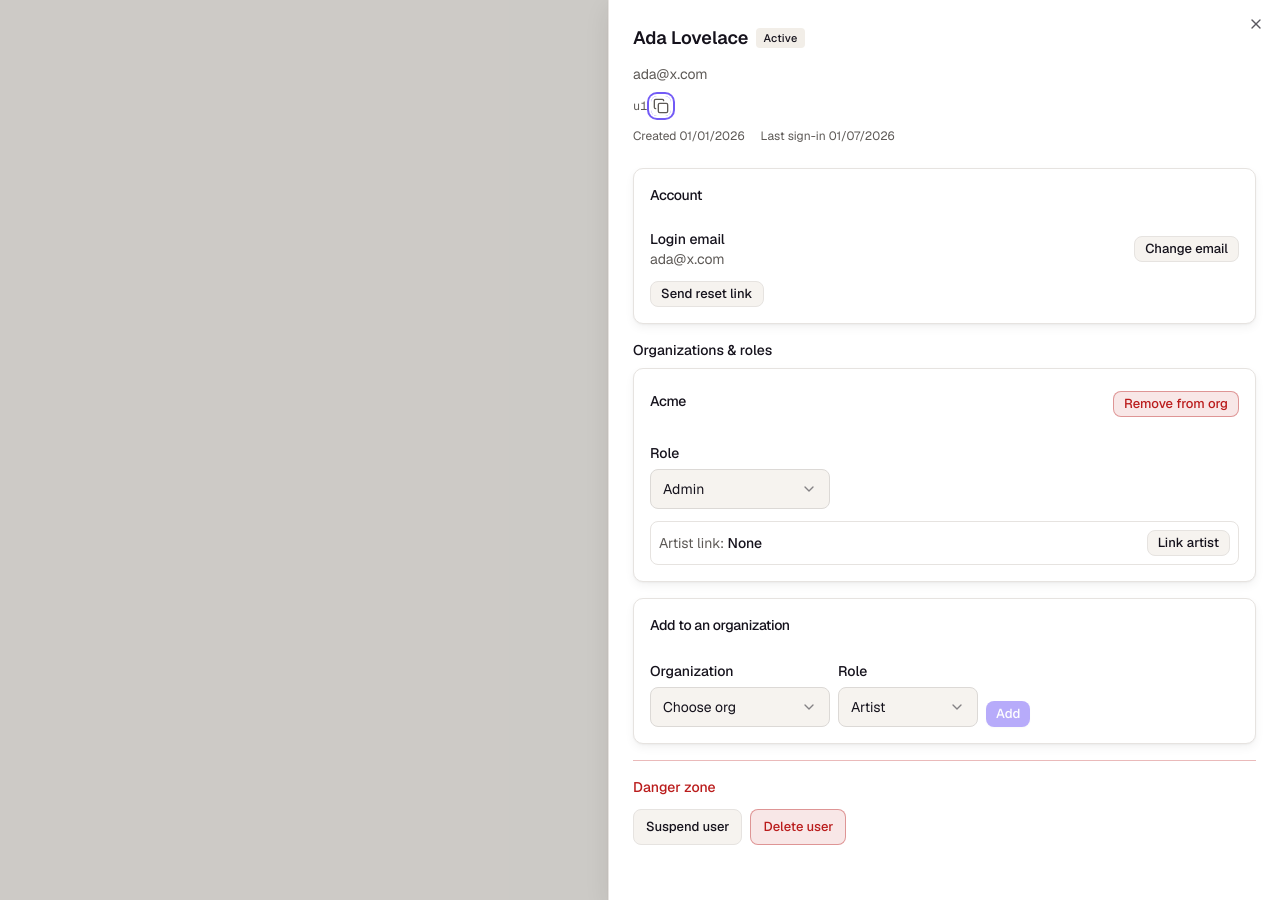
Test case: UserDetailSheet › reflects the newly linked artist once the cache refetches (drawer is not stale)
The image size is (1280, 900).
Expected: the text "None" is shown, [728,534,762,552]
Click the button "Link artist" at (1188, 543), box [1147,530,1230,556]
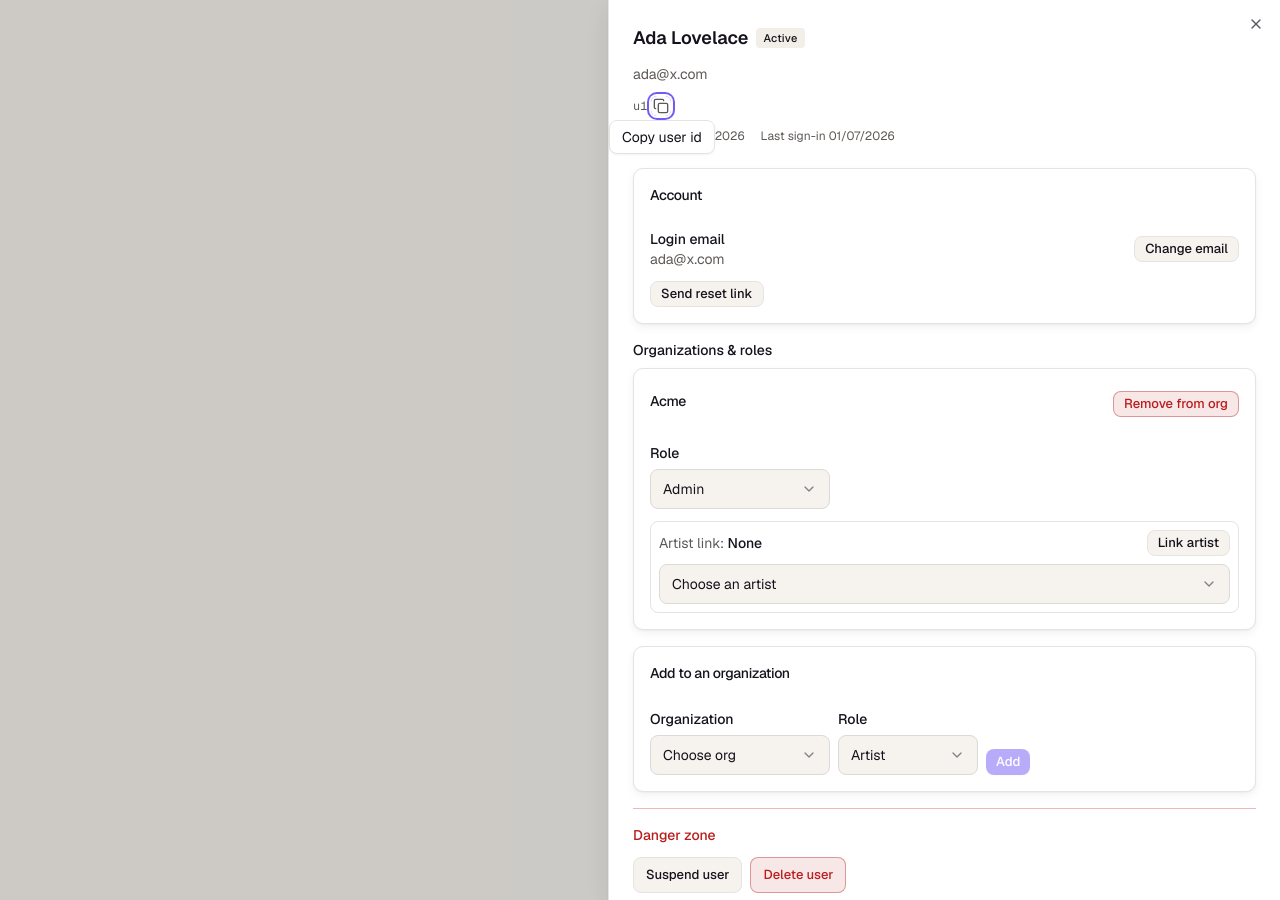
Click the dropdown named "Artist for Acme" at (724, 584), box [659,564,1230,604]
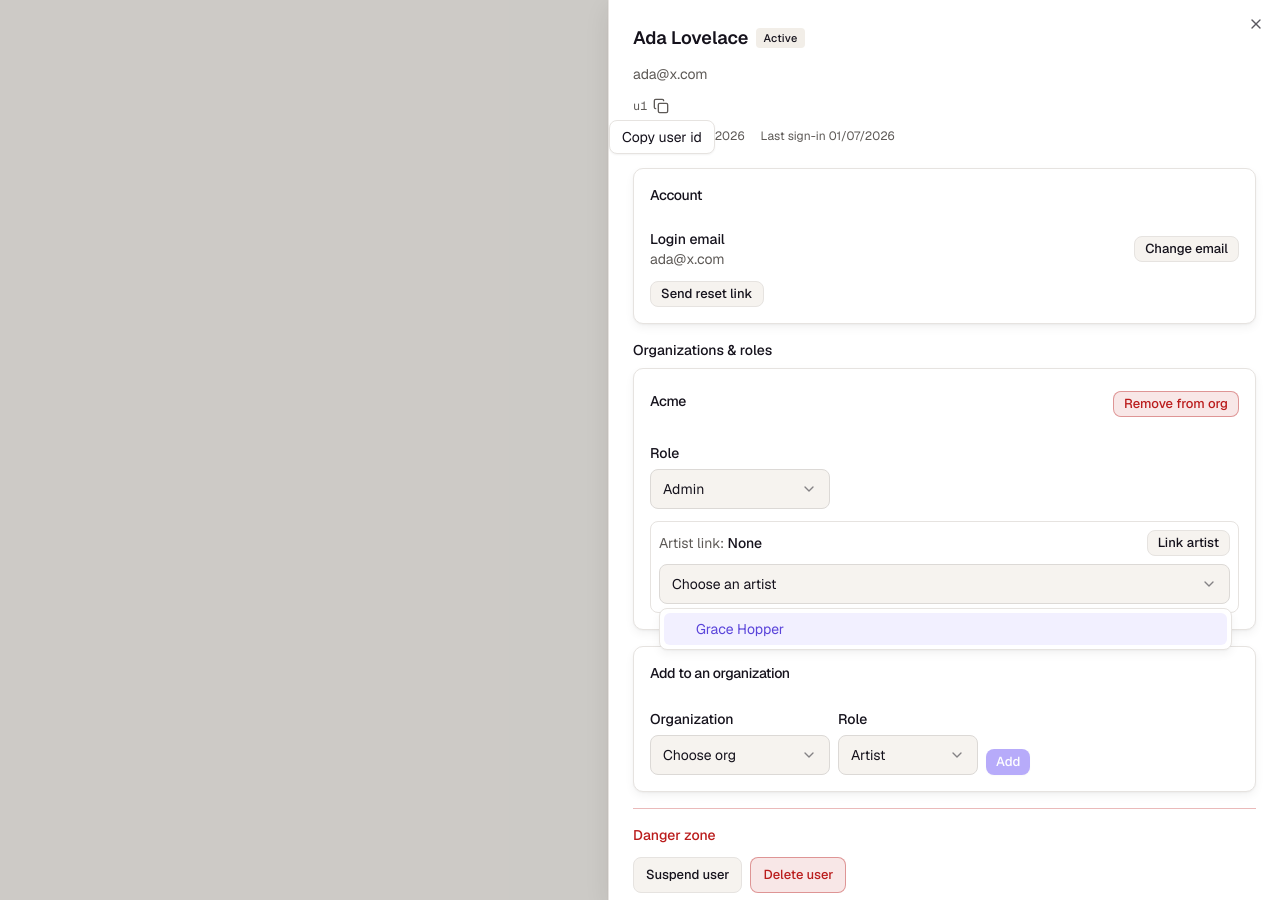
Click the option "Grace Hopper" at (740, 629), box [664,613,1227,645]
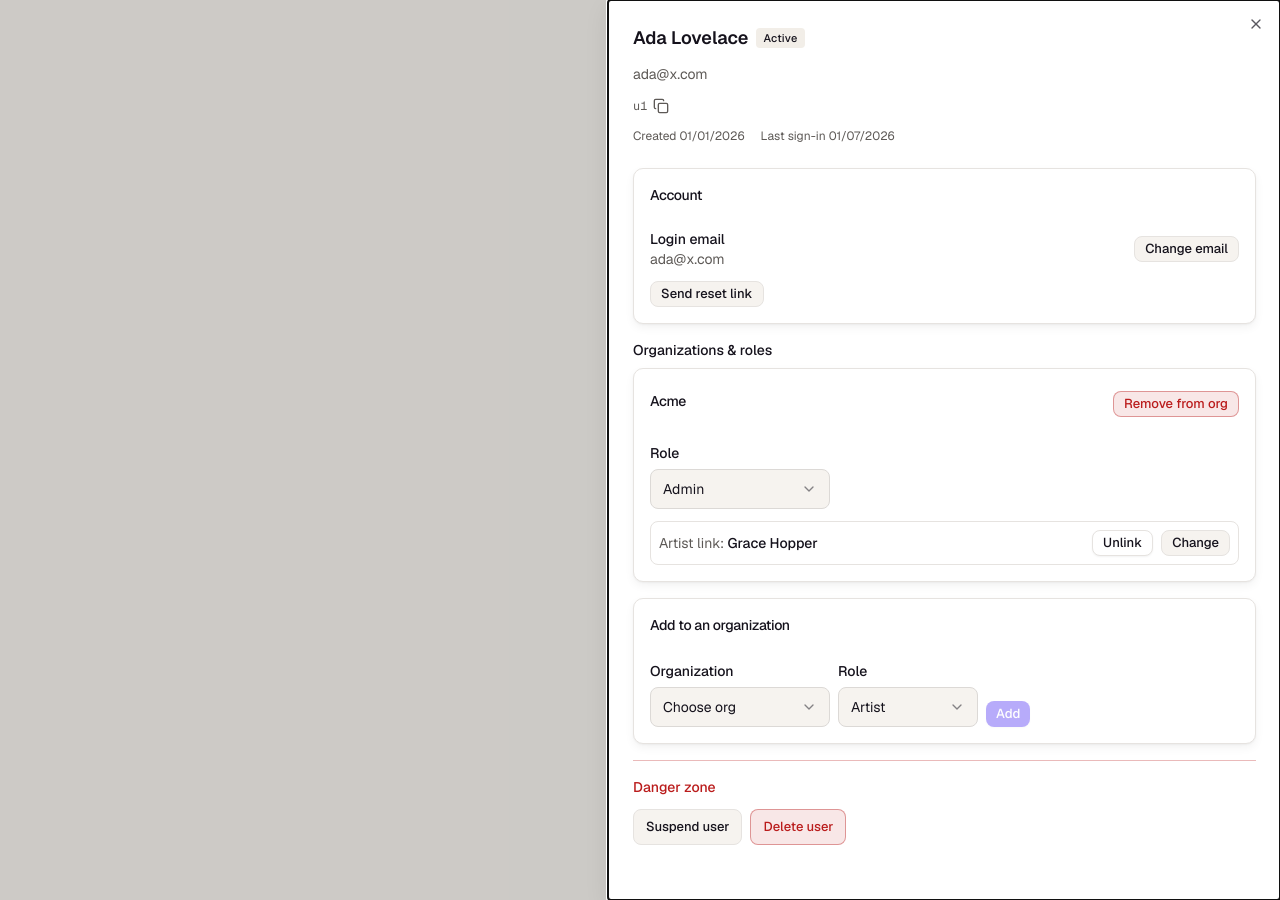
Expected: the text "Grace Hopper" is shown, [728,534,818,552]
Expected: the text "None" is gone
